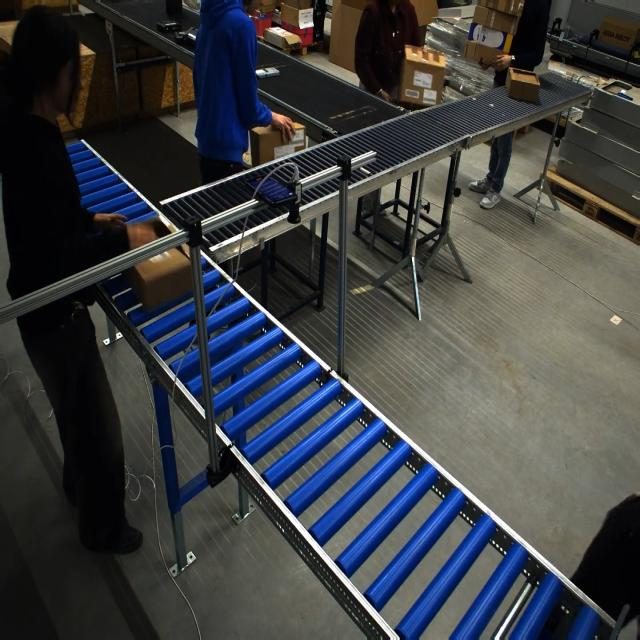box: (124, 224, 200, 312), (397, 45, 444, 109), (250, 120, 309, 164)
product: (175, 28, 197, 45), (155, 21, 181, 32), (255, 67, 280, 78)
